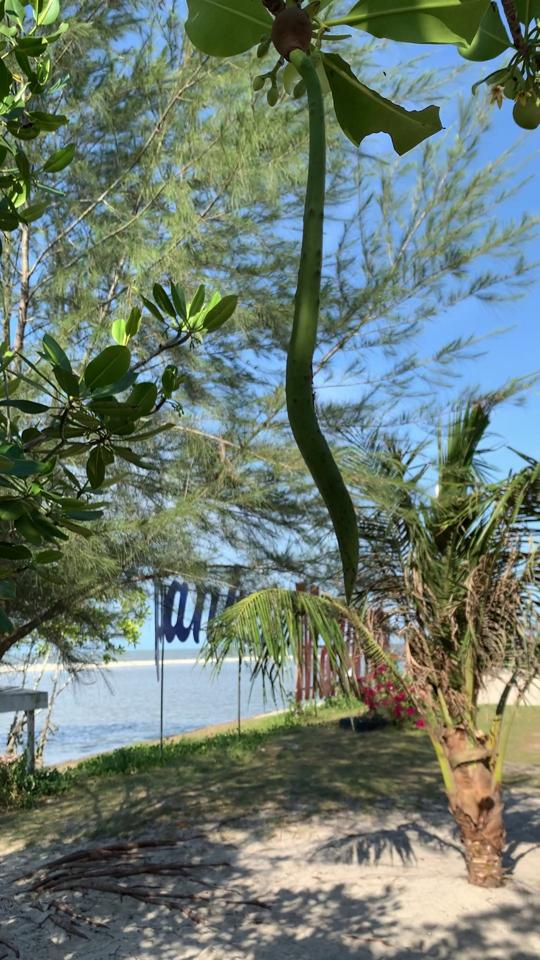setengah matang: (256, 10, 372, 621)
